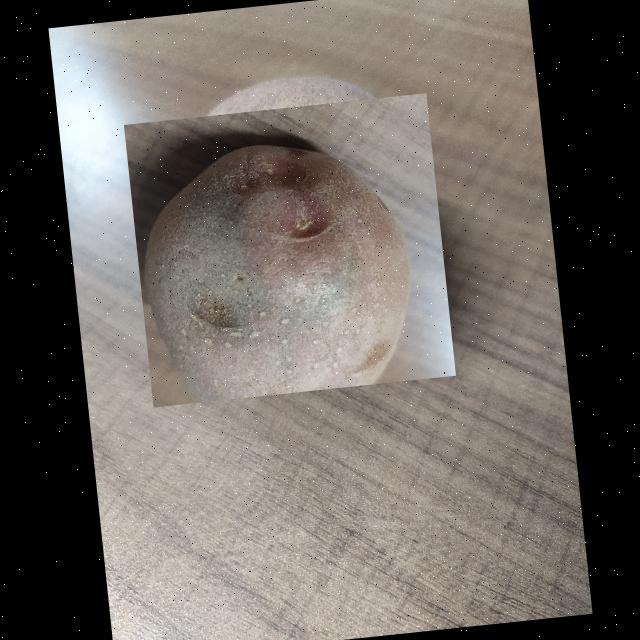Damaged potato: (123, 92, 456, 406)
